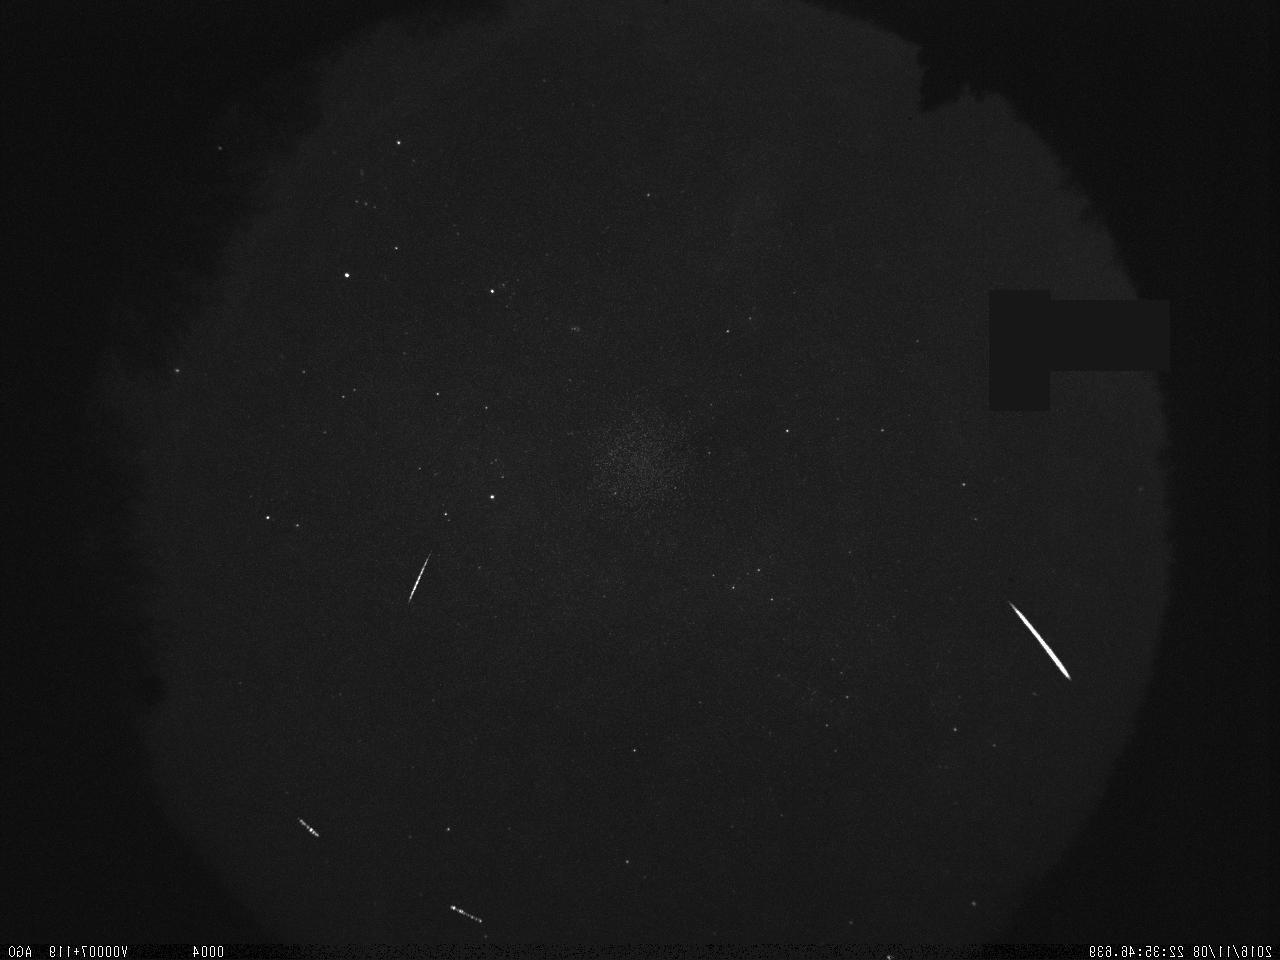meteor: (984, 587, 1082, 692), (401, 541, 440, 608)
satelite: (440, 900, 491, 932), (294, 809, 324, 845)
